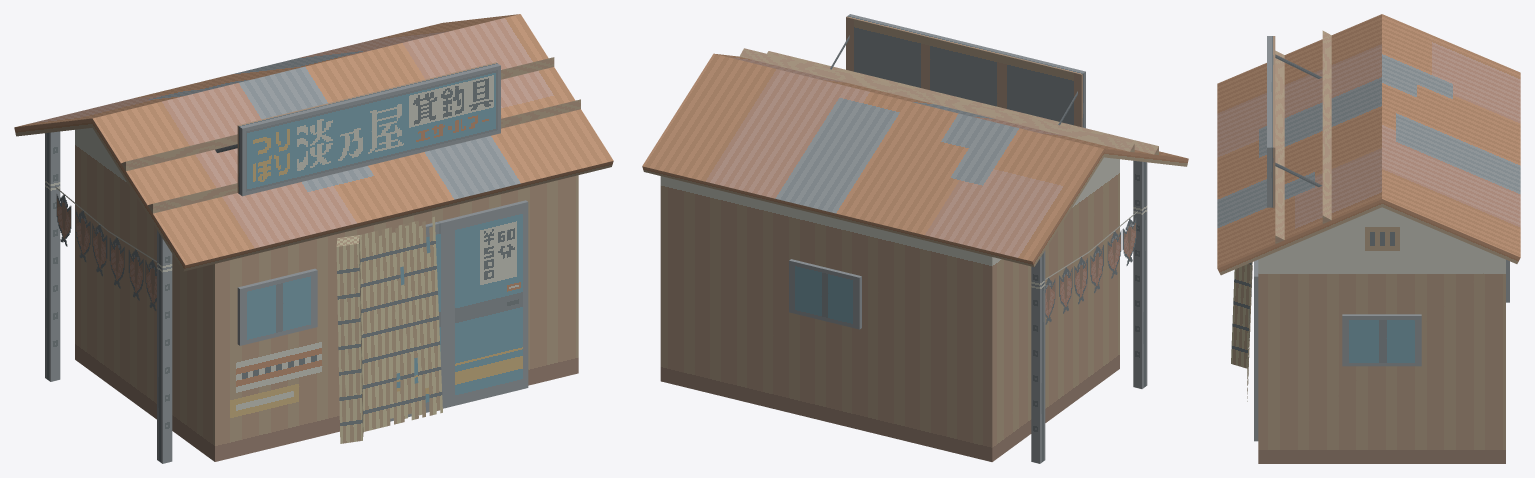
Rendered from 00c7_Fishing_Shack.glb.
3 renders of one model, left to right at view 1: azimuth 30°, elevation 25°; view 2: azimuth 150°, elevation 25°; view 3: azimuth 270°, elevation 25°, orthographic. The views are drawn at different scales.
Parts seen in each view (by area): view 1: part_0; view 2: part_0; view 3: part_0.
Boxes of the visible parts, left/top/right/bottom form: part_0: left=14, top=14, right=613, bottom=463; part_0: left=642, top=14, right=1188, bottom=463; part_0: left=1217, top=14, right=1520, bottom=463.
Bounding box in the file's own units: 5.3 × 3.81 × 3.67.
1 material, 1 textured.
